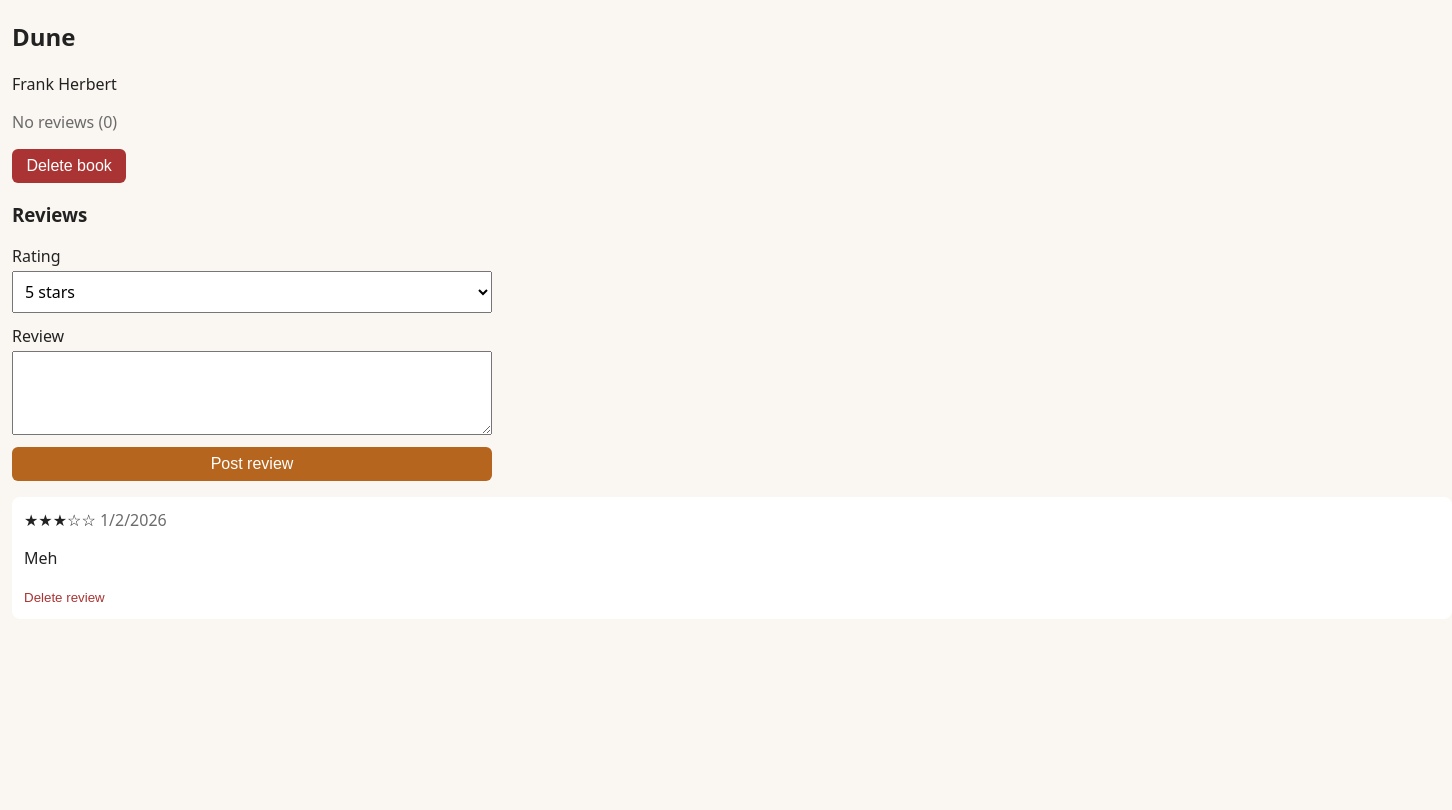
Test: book page › deletes a review
Click the button "Delete review" at [64, 598], box [24, 590, 105, 605]
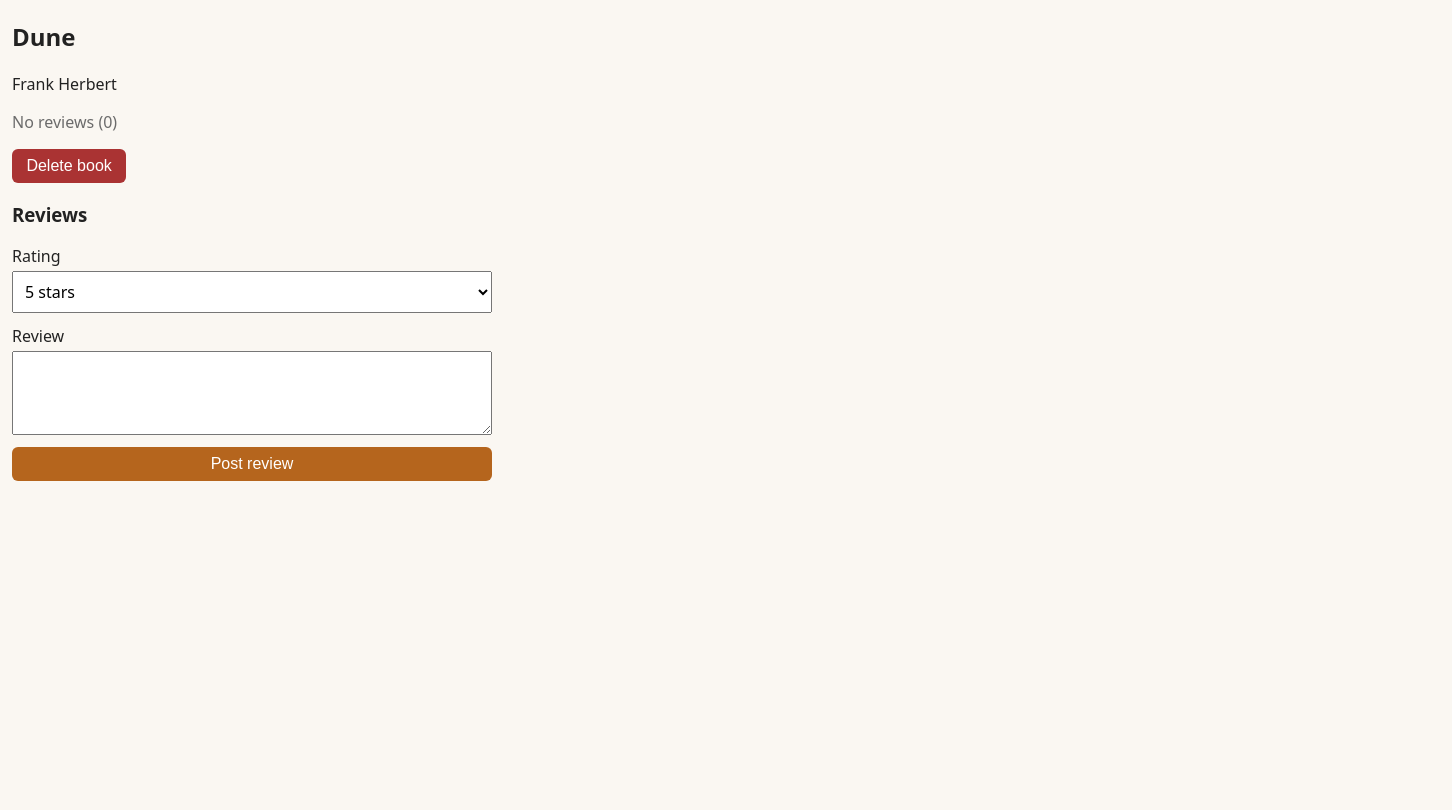
Result: the text "Meh" is gone
